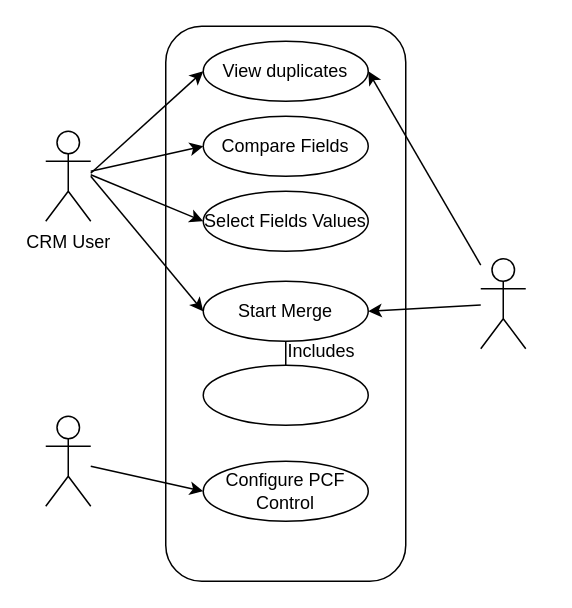
Image size: 572x608. Some labels were removed from this diagram. The shapes that lost their labels are listed below. From the top down, each one's centre as x and y in pixels, then its label:
point (502, 303): Dataverse Web API
point (285, 394): Deactivate duplicates
point (67, 460): Developer
